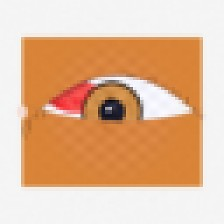hemorrhage_spot: (38, 66, 117, 129)
